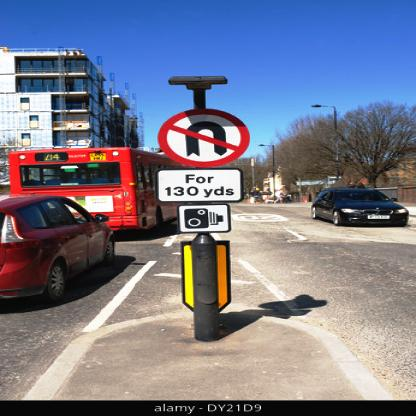No U-turn: (155, 102, 255, 164)
